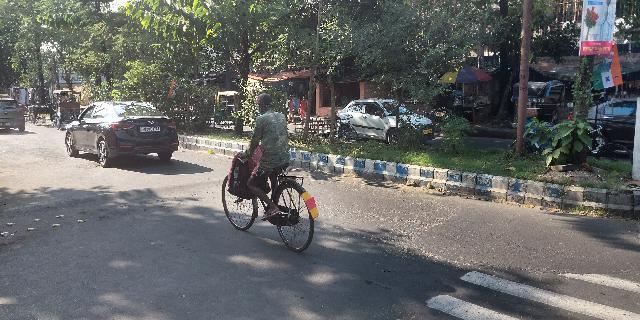Car: (63, 95, 180, 173), (1, 92, 28, 137)
Cycle: (216, 89, 323, 259)
